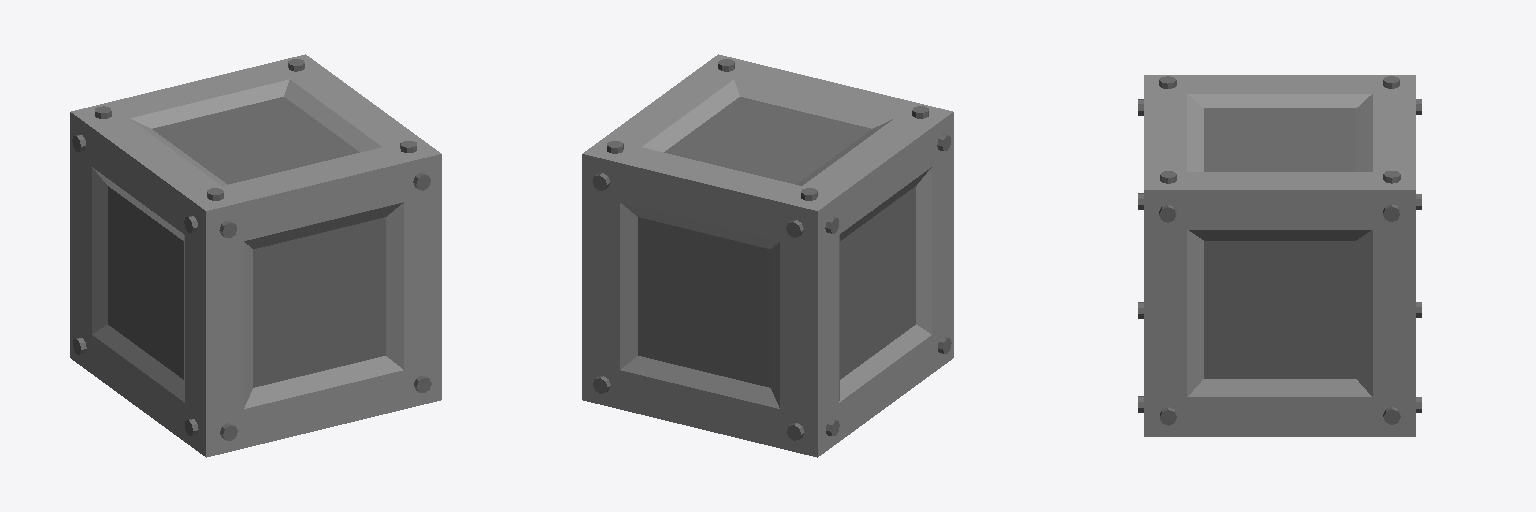
The picture shows the model from 3 angles: view 1: azimuth 30°, elevation 25°; view 2: azimuth 150°, elevation 25°; view 3: azimuth 270°, elevation 25°; orthographic projection.
Parts seen in each view (by area): view 1: Block_Metal; view 2: Block_Metal; view 3: Block_Metal.
Boxes of the visible parts, box(x1,y1,x2,y2) form: Block_Metal: box(70, 54, 441, 457); Block_Metal: box(582, 54, 953, 457); Block_Metal: box(1138, 75, 1421, 436).
Size of the model in its own units: 1.05 by 1.05 by 1.05.
Materials: 1 (1 with a texture image).